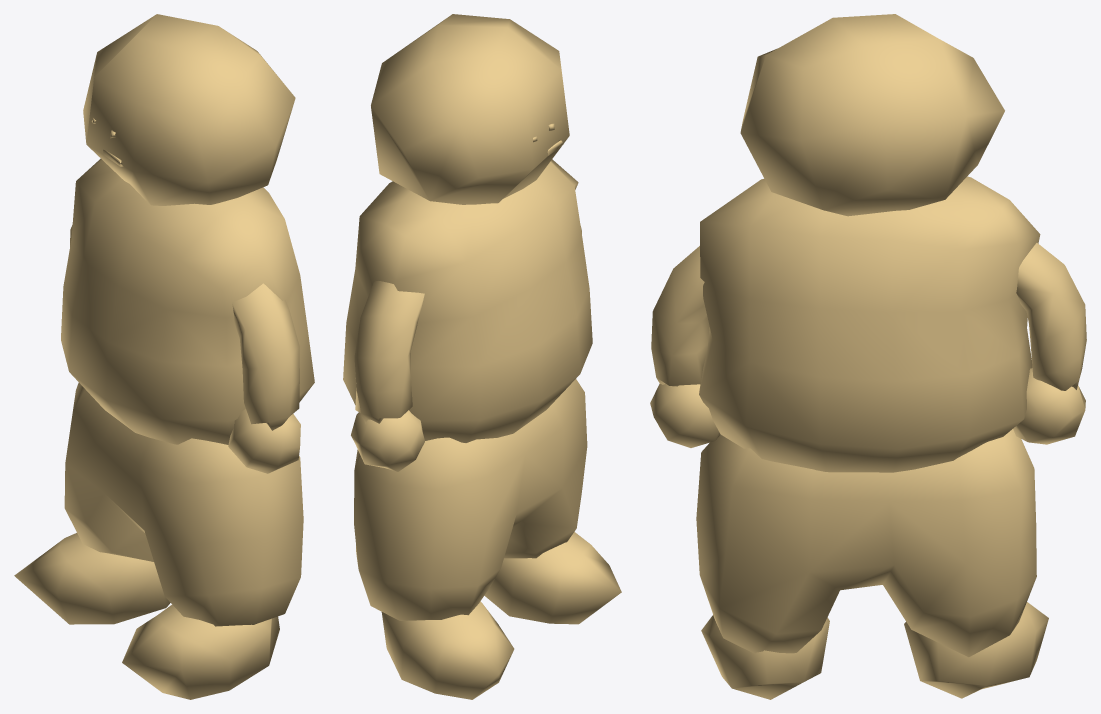
File: Giant.gltf
The picture shows the model from 3 angles, left to right: view 1: azimuth 30°, elevation 25°; view 2: azimuth 150°, elevation 25°; view 3: azimuth 270°, elevation 25°; orthographic projection. The views are drawn at different scales.
Visible parts, largest first — view 1: Giant; view 2: Giant; view 3: Giant.
Part boxes in pixels (x1=…): Giant: x1=14, y1=14, x2=314, y2=699; Giant: x1=343, y1=14, x2=621, y2=699; Giant: x1=650, y1=14, x2=1086, y2=699.
Bounding box in the file's own units: 1.79 × 5.17 × 3.04.
